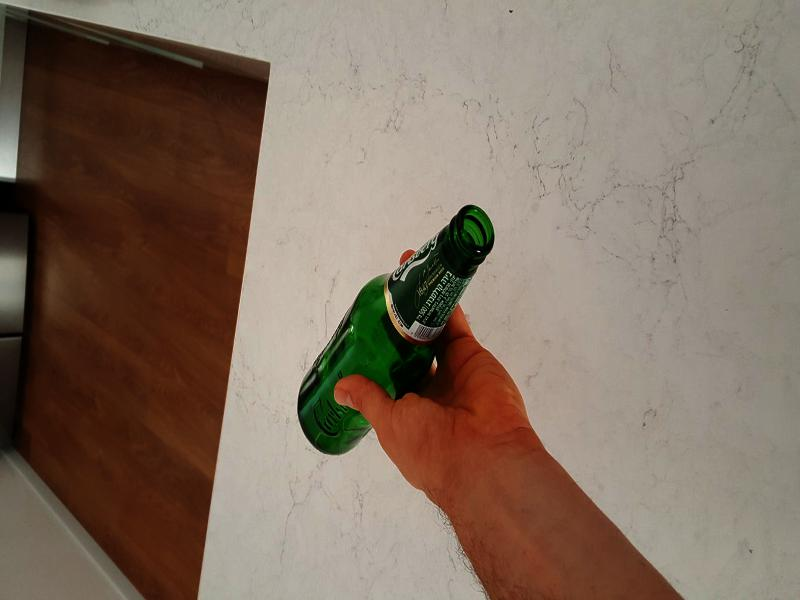Beer: (298, 202, 497, 452)
